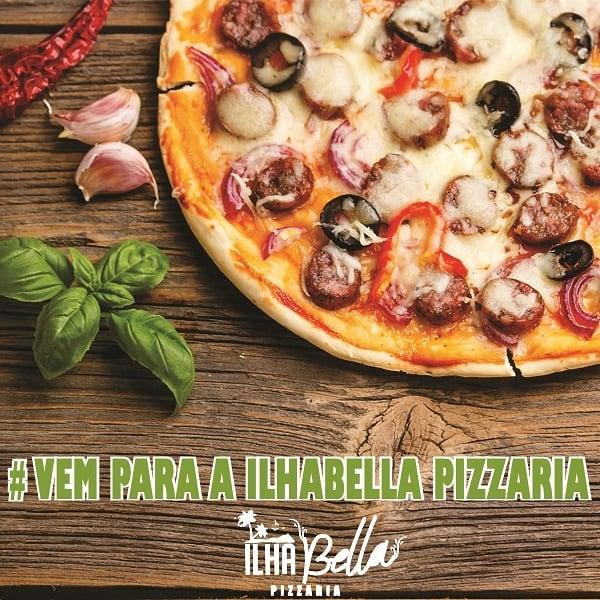Basil: (0, 233, 196, 423)
Olives: (247, 29, 309, 94), (319, 190, 385, 251), (381, 5, 449, 53), (476, 78, 525, 138), (546, 7, 596, 64), (541, 234, 594, 283)
Onion: (222, 145, 305, 217), (323, 102, 380, 187), (184, 40, 238, 103), (560, 254, 600, 335), (491, 244, 547, 280), (260, 223, 308, 258), (379, 278, 412, 324), (481, 323, 521, 346)
Peppers: (0, 0, 112, 131), (366, 202, 468, 303), (377, 41, 423, 101)
Pizza: (153, 0, 600, 379)
